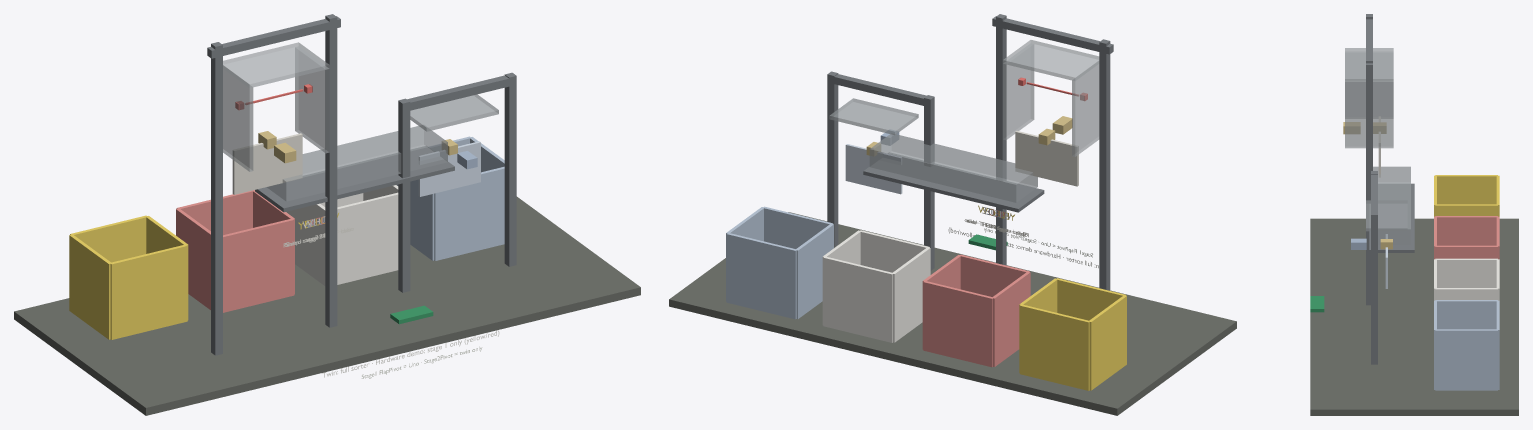
The model's file is bioseg_rig.glb.
The picture shows the model from 3 angles, left to right: view 1: azimuth 30°, elevation 25°; view 2: azimuth 150°, elevation 25°; view 3: azimuth 270°, elevation 25°; orthographic projection. The views are drawn at different scales.
Visible parts, largest first — view 1: BaseBoard, BinYellow_Back, PassTunnel, BinRed_Back, BinBlue_Back, BinWhite_Back, PassFloor, PostR, PostL, BinYellow_Left, ChuteWallR, Chute (+15 smaller); view 2: BaseBoard, PassTunnel, BinBlue_Front, BinYellow_Front, BinWhite_Front, BinRed_Front, PassFloor, PostL, BinYellow_Left, FlapBlade, ChuteWallR, BinWhite_Left (+19 smaller); view 3: BaseBoard, BinBlue_Right, ChuteWallR, ChuteWallL, PassTunnel, BinWhite_Left, BinYellow_Left, BinRed_Left, BinBlue_Left, PassFloor, Chute, PostR (+8 smaller).
Part boxes in pixels (x1,y1,x2,y2): BaseBoard: [14, 196, 640, 415]; BinYellow_Back: [110, 244, 187, 339]; PassTunnel: [266, 125, 447, 201]; BinRed_Back: [223, 219, 294, 312]; BinBlue_Back: [434, 166, 504, 260]; BinWhite_Back: [337, 192, 398, 284]; PassFloor: [255, 146, 454, 212]; PostR: [325, 14, 337, 327]; PostL: [211, 42, 222, 355]; BinYellow_Left: [69, 234, 111, 339]; ChuteWallR: [295, 47, 329, 153]; Chute: [223, 42, 329, 88]; BaseBoard: [669, 212, 1236, 415]; PassTunnel: [869, 134, 1037, 202]; BinBlue_Front: [726, 233, 796, 319]; BinYellow_Front: [1020, 304, 1090, 390]; BinWhite_Front: [823, 256, 892, 342]; BinRed_Front: [923, 281, 992, 367]; PassFloor: [863, 152, 1044, 212]; PostL: [1099, 39, 1110, 290]; BinYellow_Left: [1089, 295, 1126, 390]; FlapBlade: [1015, 131, 1078, 186]; ChuteWallR: [1003, 44, 1034, 140]; BinWhite_Left: [893, 247, 930, 342]; BaseBoard: [1310, 218, 1518, 415]; BinBlue_Right: [1435, 329, 1497, 390]; ChuteWallR: [1345, 81, 1393, 148]; ChuteWallL: [1345, 52, 1392, 118]; PassTunnel: [1373, 166, 1410, 244]; BinWhite_Left: [1435, 258, 1497, 287]; BinYellow_Left: [1435, 175, 1497, 204]; BinRed_Left: [1435, 216, 1497, 245]; BinBlue_Left: [1435, 300, 1497, 329]; PassFloor: [1369, 183, 1414, 252]; Chute: [1345, 48, 1393, 81]; PostR: [1366, 58, 1372, 305].
Size of the model in its own units: 2.6 by 1.59 by 1.46.
